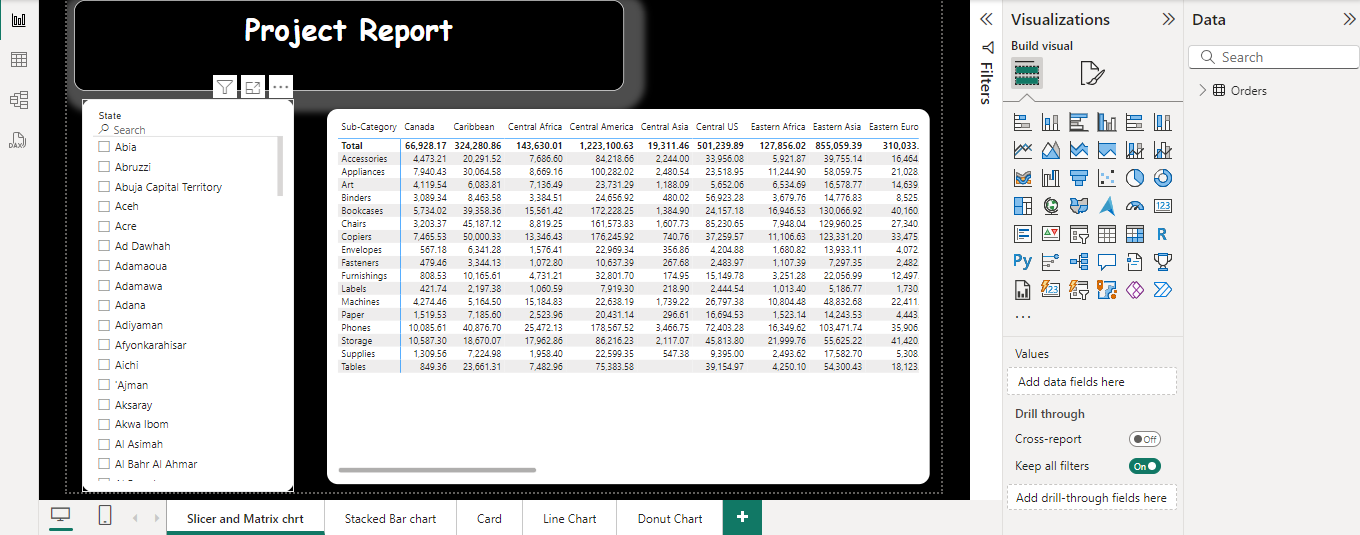

The dashboard page shown, as its layout file describes it:
{"tool":"powerbi","page":{"name":"Slicer and Matrix chrt","canvas":[1280,720],"ordinal":0},"visuals":[{"type":"textbox","box":[10.1,0,804.6,132.7],"z":0},{"type":"slicer","fields":{"Values":["Orders.State"]},"box":[22,144.9,310.2,575.1],"z":1000},{"type":"pivotTable","fields":{"Rows":["Orders.Sub-Category"],"Columns":["Orders.Region"],"Values":["Sum(Orders.Sales)"]},"box":[380.5,159.5,882.4,548.8],"z":2000}]}

Visuals, with their boxes on the page's 1280x720 design canvas (x1, y1, x2, y2). These are canvas units, not pixel positions in the 1360x535 screenshot, which may show the page scaled, cropped or inside an application window:
textbox: l=10, t=0, r=815, b=133
slicer - Orders.State: l=22, t=145, r=332, b=720
pivotTable - Orders.Sub-Category x Orders.Region: l=380, t=160, r=1263, b=708
